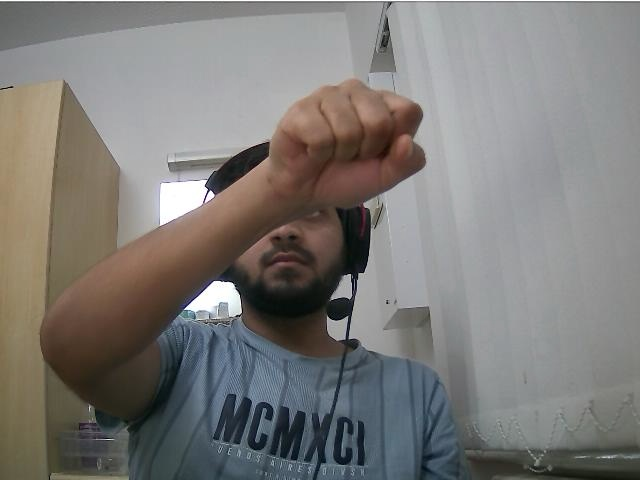hold: (270, 76, 426, 217)
